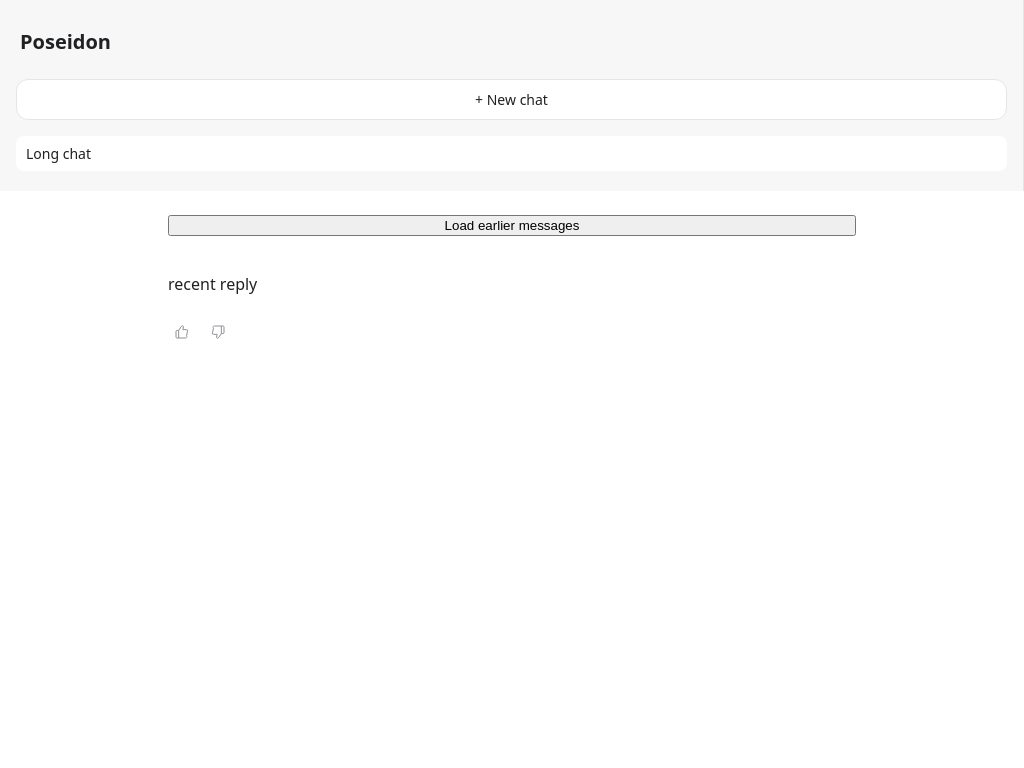
Test: a failed Load earlier does not leak scroll-anchor suppression into the next unrelated messages change
The image size is (1024, 768).
Expected: the text "recent reply" is shown, [168, 272, 257, 298]
Click the button "Load earlier messages".
click(512, 226)  # box [168, 215, 856, 236]
(page scrolled)
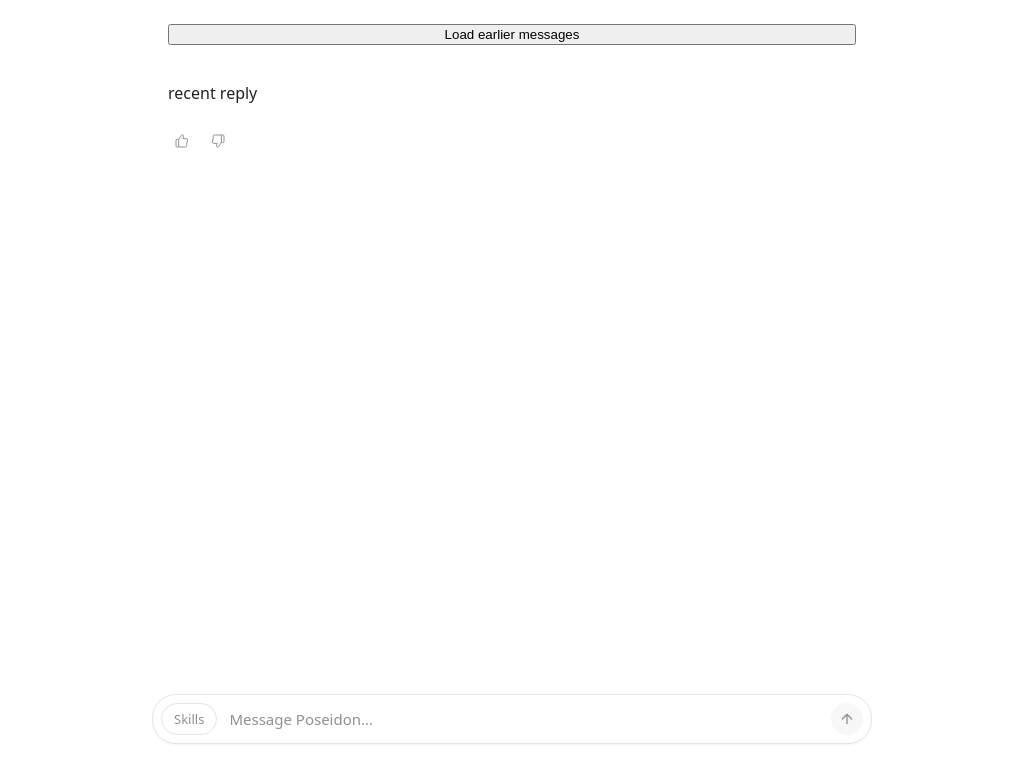
Expected: the button "Load earlier messages" is enabled, [168, 24, 856, 45]
An UNRELATED messages change: a brand new chat turn.
Type "hello" into the field with placeholder "Message Poseidon…".
click(524, 719); type("hello")  # box [225, 695, 823, 743]
Then press Enter
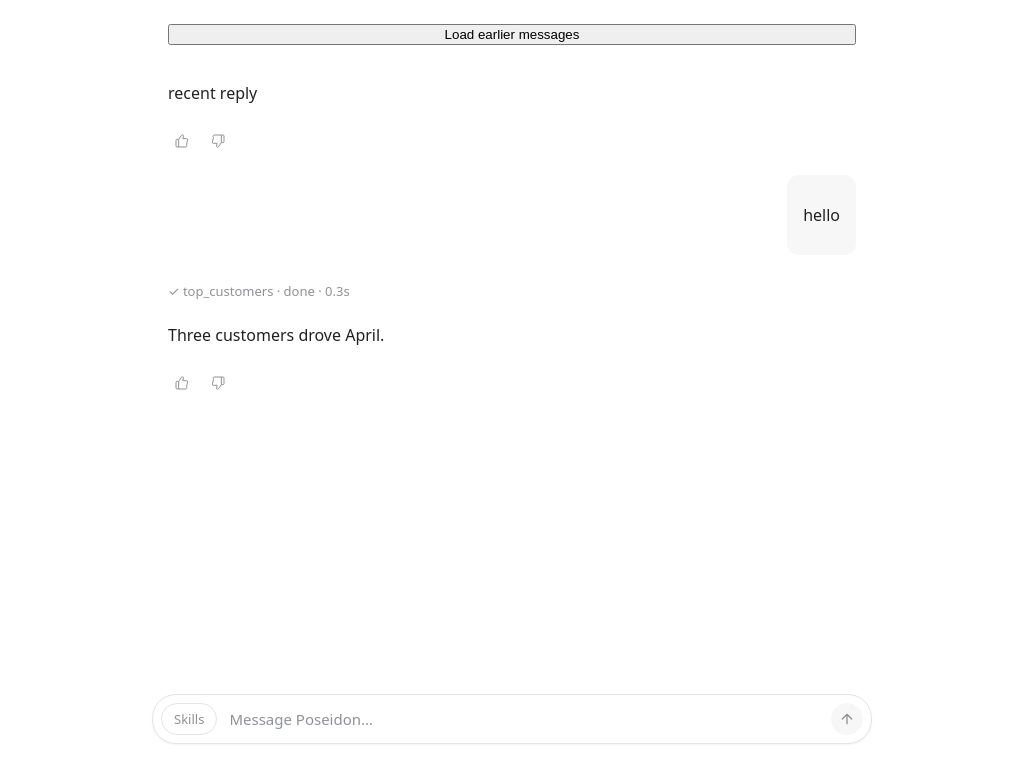
Now the text "Three customers drove April." is shown, box [168, 323, 384, 349]
